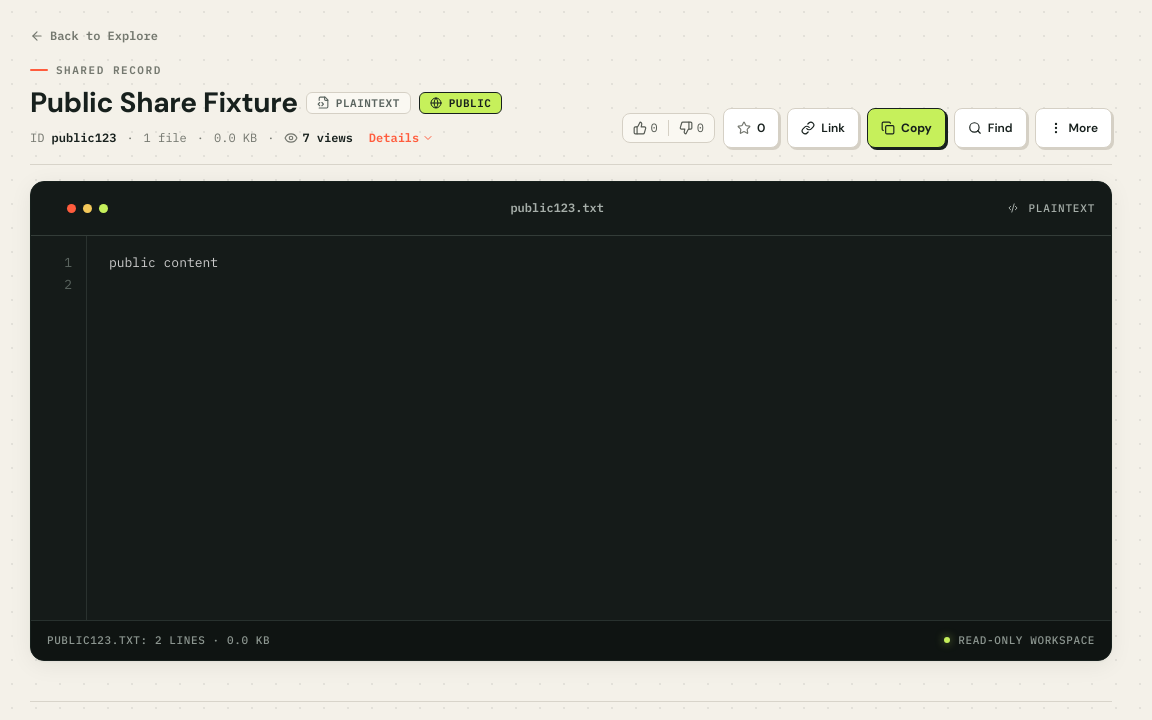
Test case: Sharing experience: primary copy-link and states › FE-SHARE-07: opens the manual-copy fallback with focused text when clipboard rejects
Click the button named "copy link": (823, 128) [787,108,859,148]
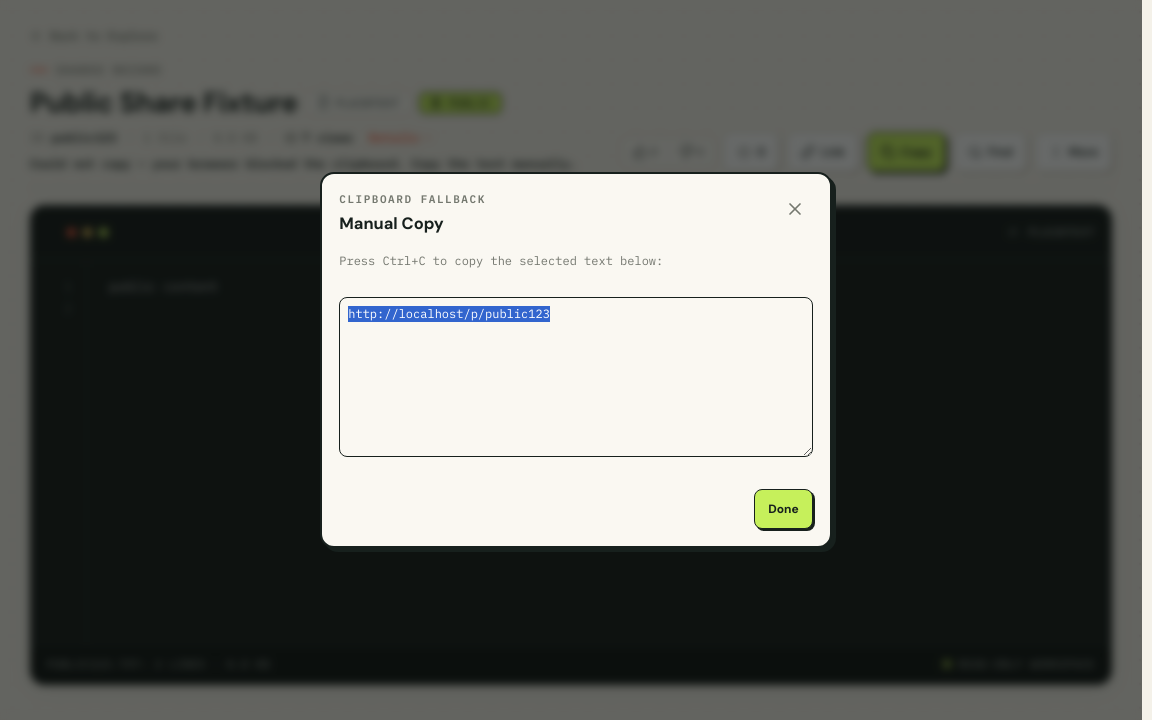
Expected: the dialog "Manual Copy" is shown
